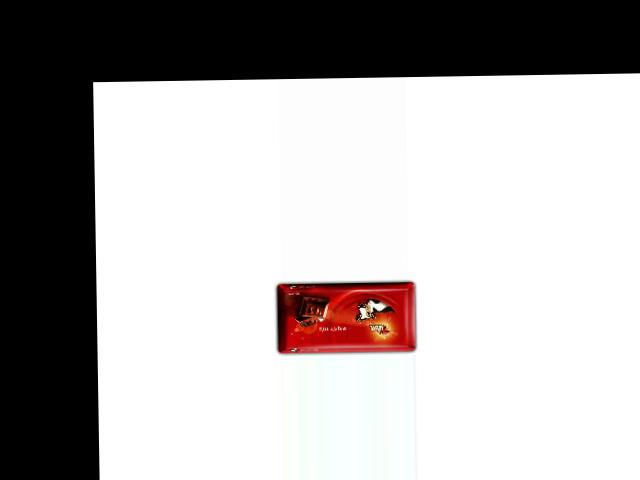chocolate: (274, 276, 423, 353)
